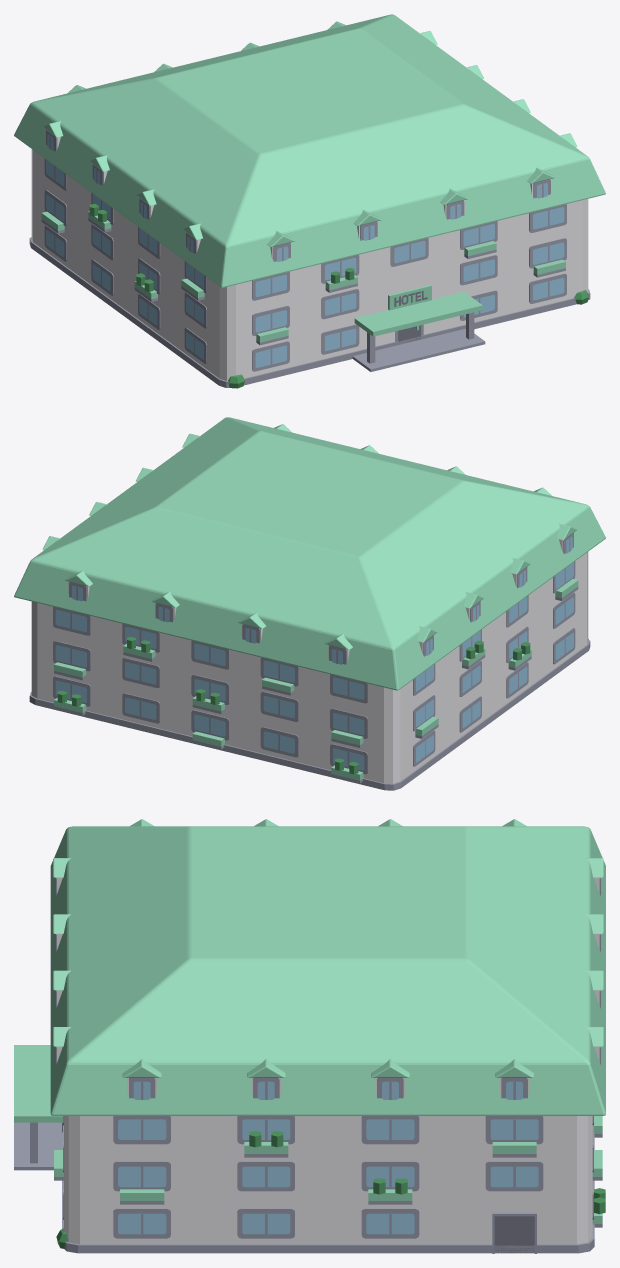
The model's file is hotel-3x3-t1-tone-a.glb.
The picture shows the model from 3 angles, top to bottom: view 1: azimuth 30°, elevation 25°; view 2: azimuth 150°, elevation 25°; view 3: azimuth 270°, elevation 25°; orthographic projection. The views are drawn at different scales.
Visible parts, largest first — view 1: hotel-3x3-t1-tone-a; view 2: hotel-3x3-t1-tone-a; view 3: hotel-3x3-t1-tone-a.
Part boxes in pixels (left/top/right/bottom): hotel-3x3-t1-tone-a: left=14, top=14, right=605, bottom=388; hotel-3x3-t1-tone-a: left=14, top=417, right=605, bottom=790; hotel-3x3-t1-tone-a: left=14, top=819, right=605, bottom=1253.
Bounding box in the file's own units: 2.96 × 1.33 × 2.96.
1 material, 1 textured.
